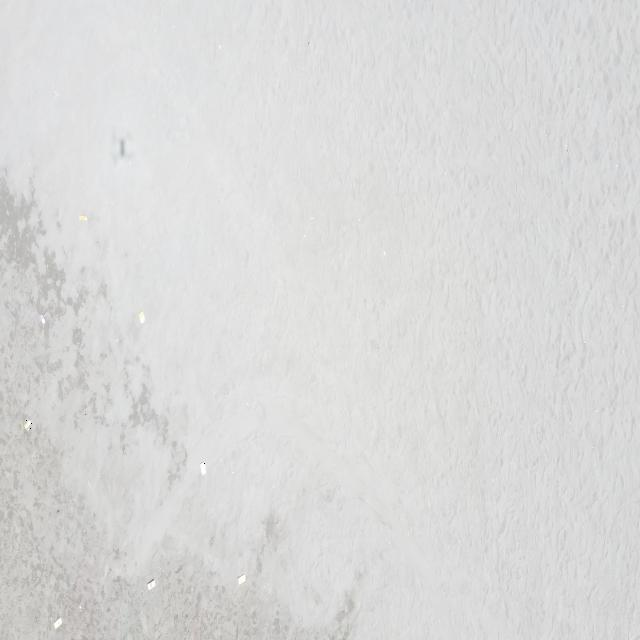Garbage: (200, 460, 206, 475), (147, 579, 155, 590), (52, 617, 60, 628), (238, 573, 246, 584), (24, 420, 31, 430), (138, 311, 143, 323), (79, 213, 87, 220)
